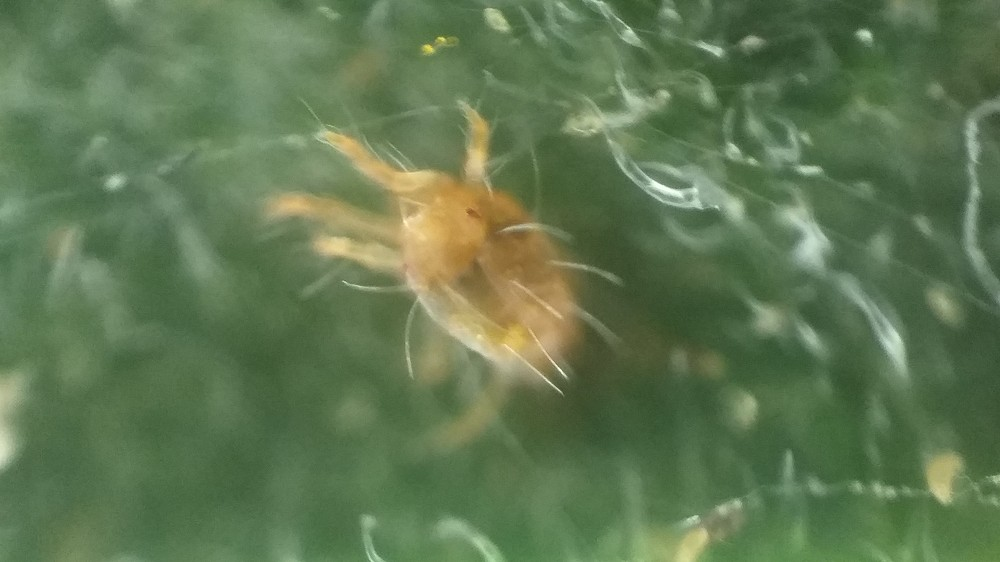Aracnido Rojo: (250, 93, 670, 474)
